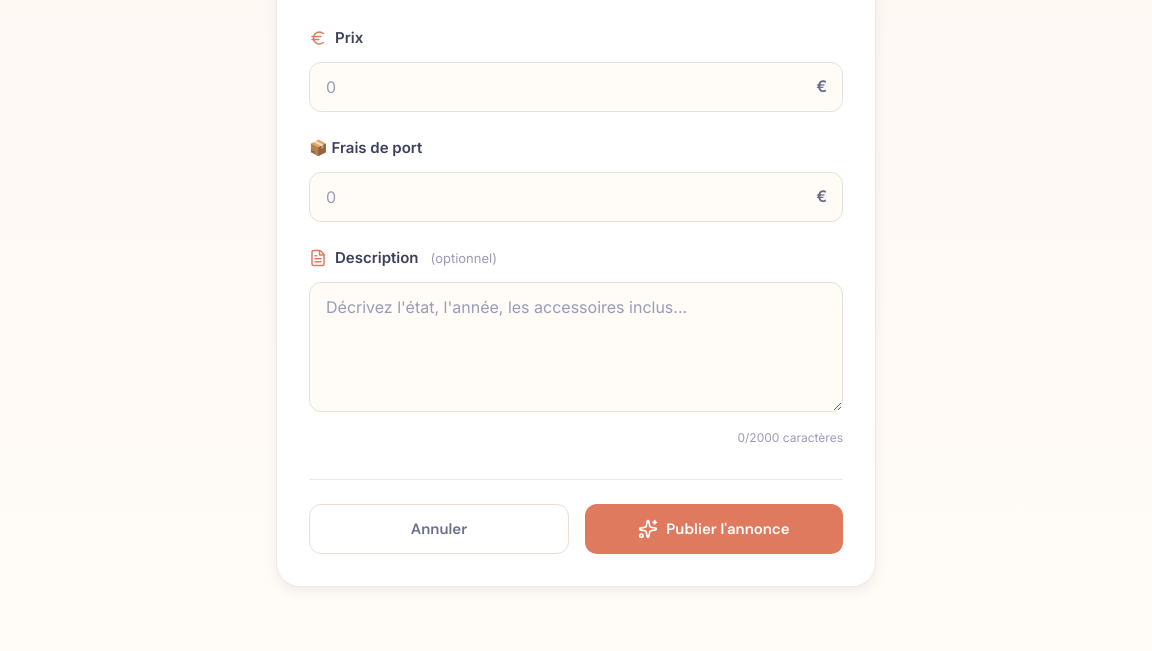
Test: CreateArticlePage › valide les champs requis
The image size is (1152, 651).
(page scrolled)
Step 1. Click the button "Publier l'annonce" → (714, 529), box [585,504,843,554]
(page scrolled)
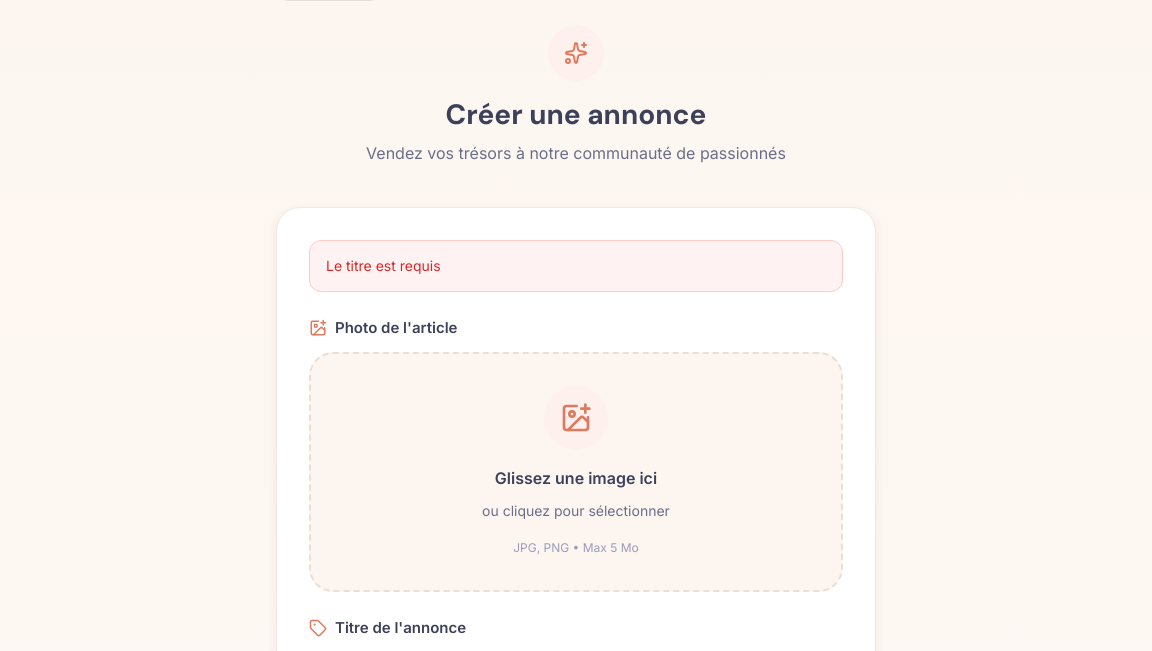
expect the text "Le titre est requis" is shown: met, box [326,257,441,274]
